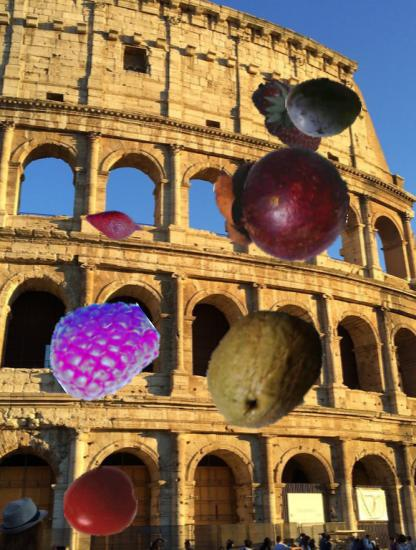Mangostan: (212, 134, 350, 272)
Papaya: (199, 303, 331, 435)
Plum: (285, 69, 363, 147)
Raspberry: (46, 292, 156, 402)
Salak: (84, 195, 145, 256)
Strawberry: (248, 71, 336, 159)
Tomato: (62, 464, 138, 540)
